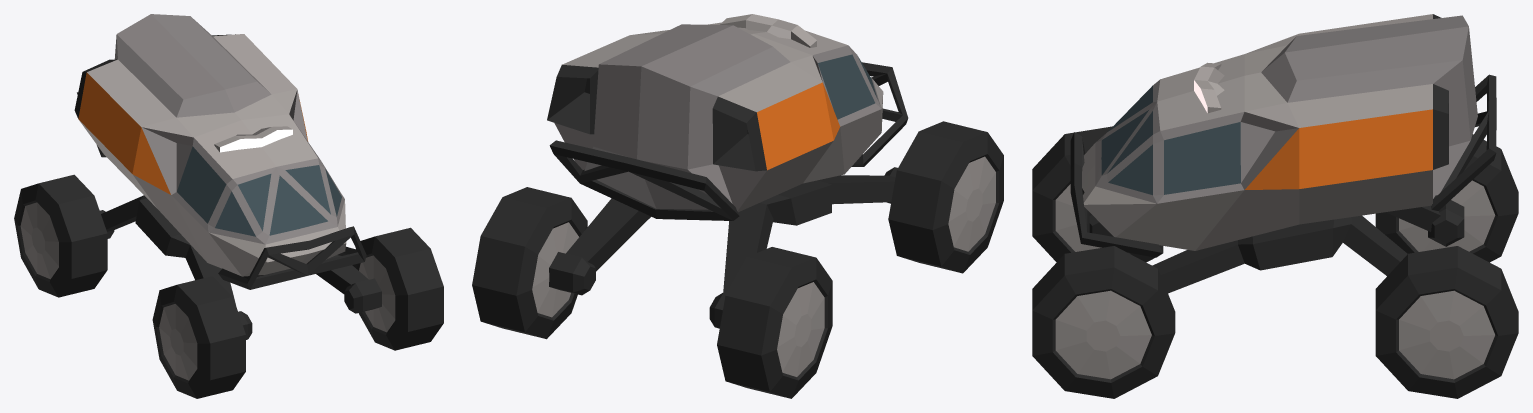
File: scifi_scifi-buggy.fbx
3 views of the same model, side by side, from view 1: azimuth 30°, elevation 25°; view 2: azimuth 150°, elevation 25°; view 3: azimuth 270°, elevation 25° (orthographic). The views are drawn at different scales.
Parts seen in each view (by area): view 1: scifi_buggy_base, scifi_buggy_wheel_FR, scifi_buggy_wheel_BR, scifi_buggy_wheel_FL; view 2: scifi_buggy_base, scifi_buggy_wheel_BR, scifi_buggy_wheel_FR, scifi_buggy_wheel_BL; view 3: scifi_buggy_base, scifi_buggy_wheel_BL, scifi_buggy_wheel_FL, scifi_buggy_wheel_BR, scifi_buggy_wheel_FR.
Boxes of the visible parts, left/top/right/bottom form: scifi_buggy_base: left=74, top=14, right=368, bottom=304; scifi_buggy_wheel_FR: left=152, top=276, right=252, bottom=398; scifi_buggy_wheel_BR: left=14, top=174, right=114, bottom=297; scifi_buggy_wheel_FL: left=344, top=227, right=443, bottom=350; scifi_buggy_base: left=547, top=14, right=908, bottom=292; scifi_buggy_wheel_BR: left=709, top=247, right=832, bottom=398; scifi_buggy_wheel_FR: left=884, top=121, right=1003, bottom=273; scifi_buggy_wheel_BL: left=472, top=187, right=595, bottom=339; scifi_buggy_base: left=1070, top=14, right=1496, bottom=293; scifi_buggy_wheel_BL: left=1375, top=246, right=1518, bottom=398; scifi_buggy_wheel_FL: left=1032, top=246, right=1175, bottom=398; scifi_buggy_wheel_BR: left=1375, top=134, right=1518, bottom=262; scifi_buggy_wheel_FR: left=1032, top=126, right=1154, bottom=262.
Size of the model in its own units: 143 by 137 by 200.
